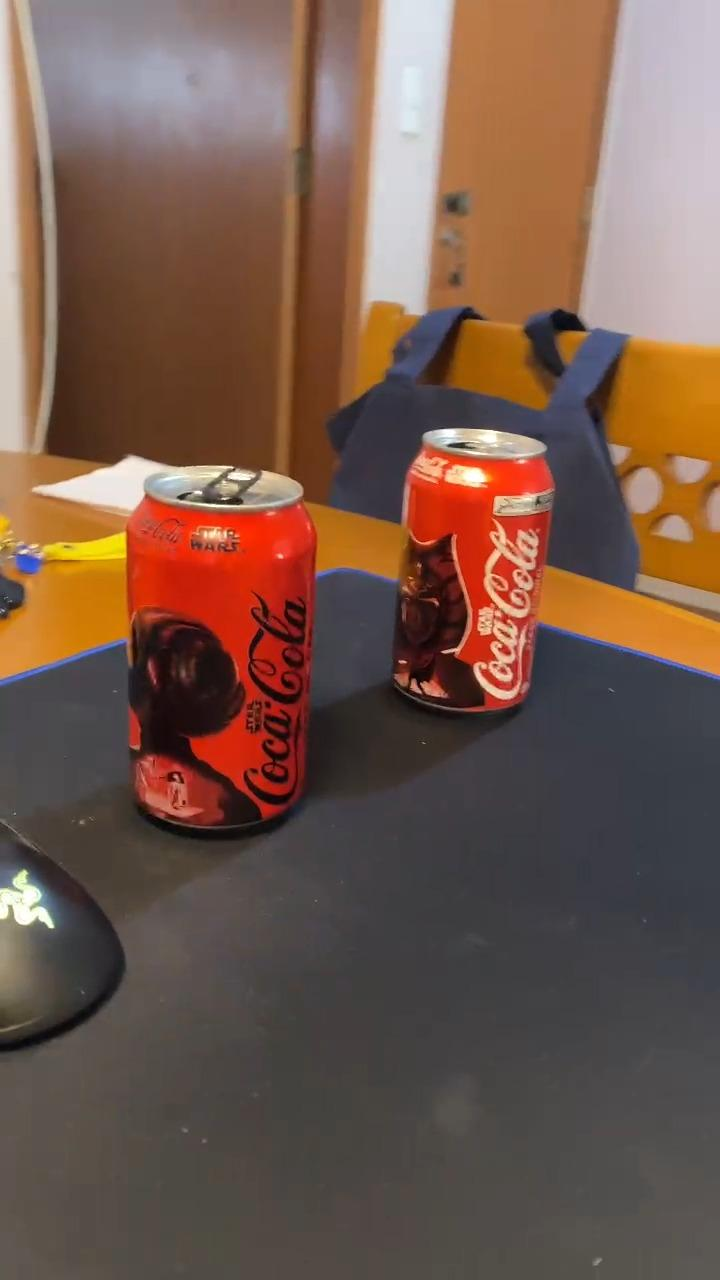coke: (124, 466, 317, 829), (392, 428, 555, 715)
